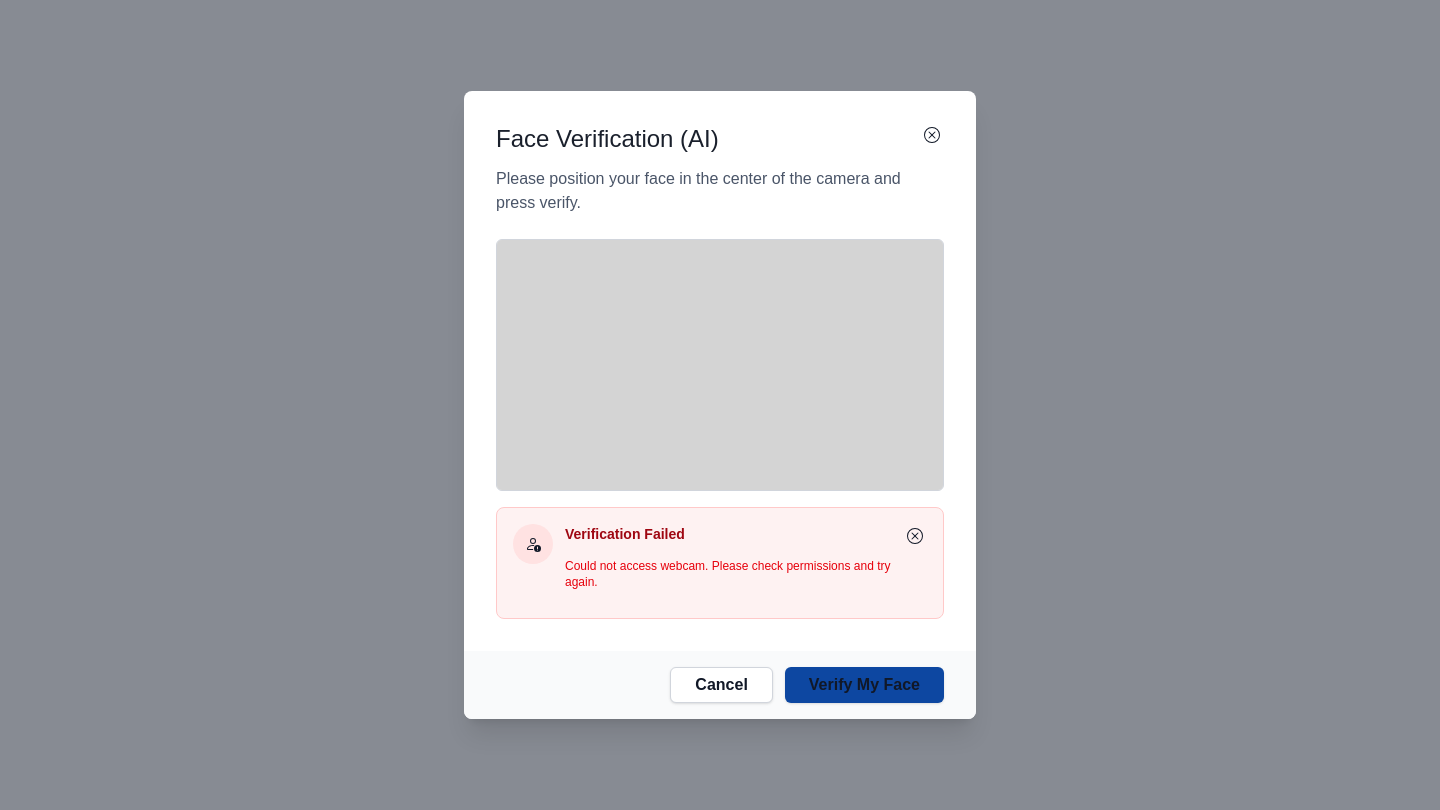
Scenario: TestFaceVerificationModal — Face verification logic khi vào thi › VF-016 — should_show_error_when_no_face_detected_in_webcam
Click the button "Verify My Face" at (864, 685), box [785,667,944,703]
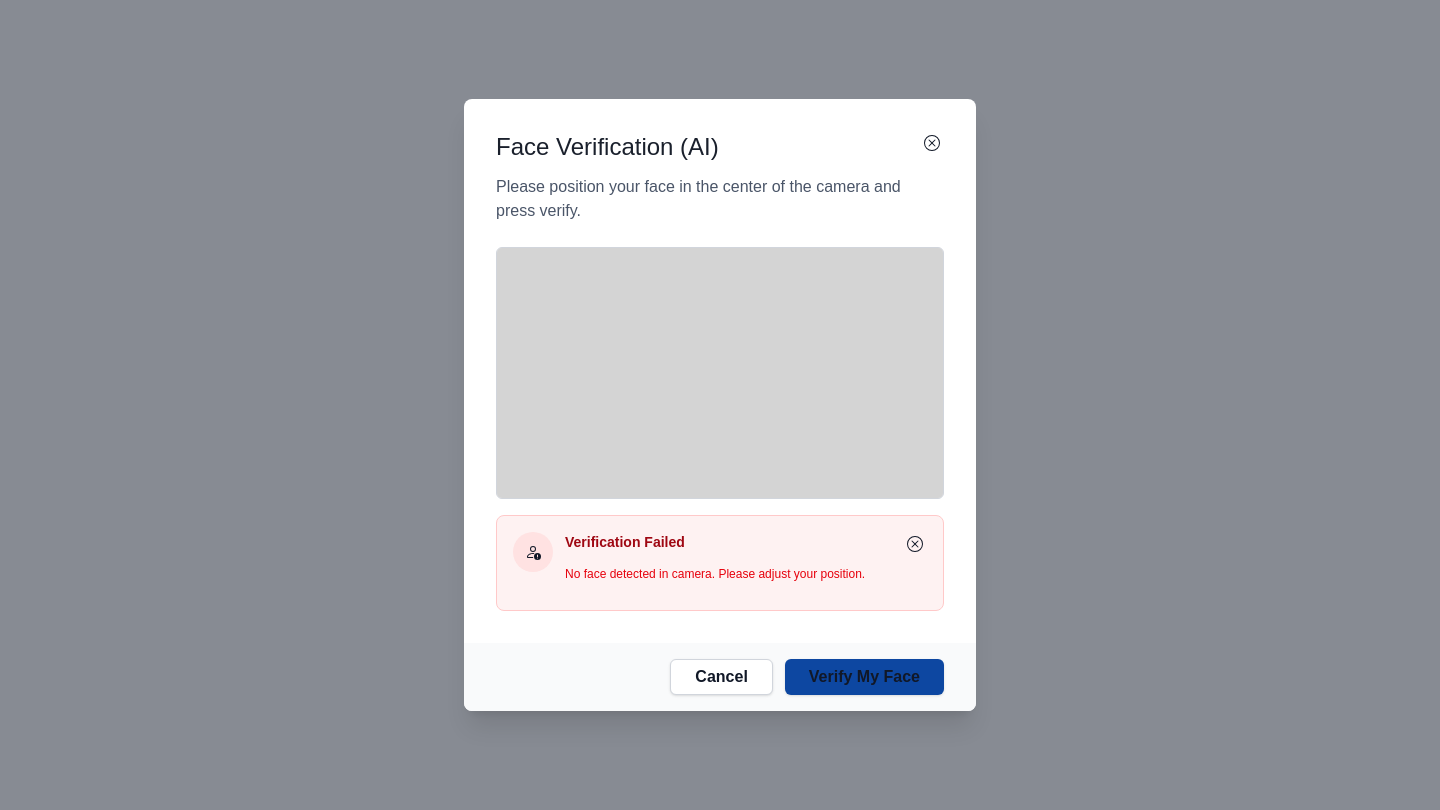
Expected: the text "No face detected in camera. Please adjust your position." is shown, [565,566,891,582]
